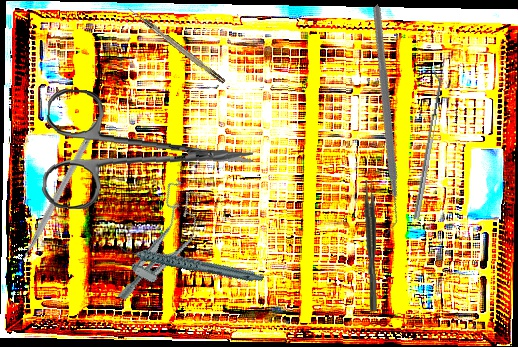Chopper: (269, 4, 492, 237), (7, 116, 100, 272)
Handpiece: (115, 213, 265, 312)
Hook Surgical: (126, 5, 226, 85)
Iris Scissors: (41, 87, 257, 222)
Spatula Surgical: (408, 71, 445, 220)
Speculum: (109, 176, 214, 315)
Tissue Forceps: (363, 179, 378, 312)
